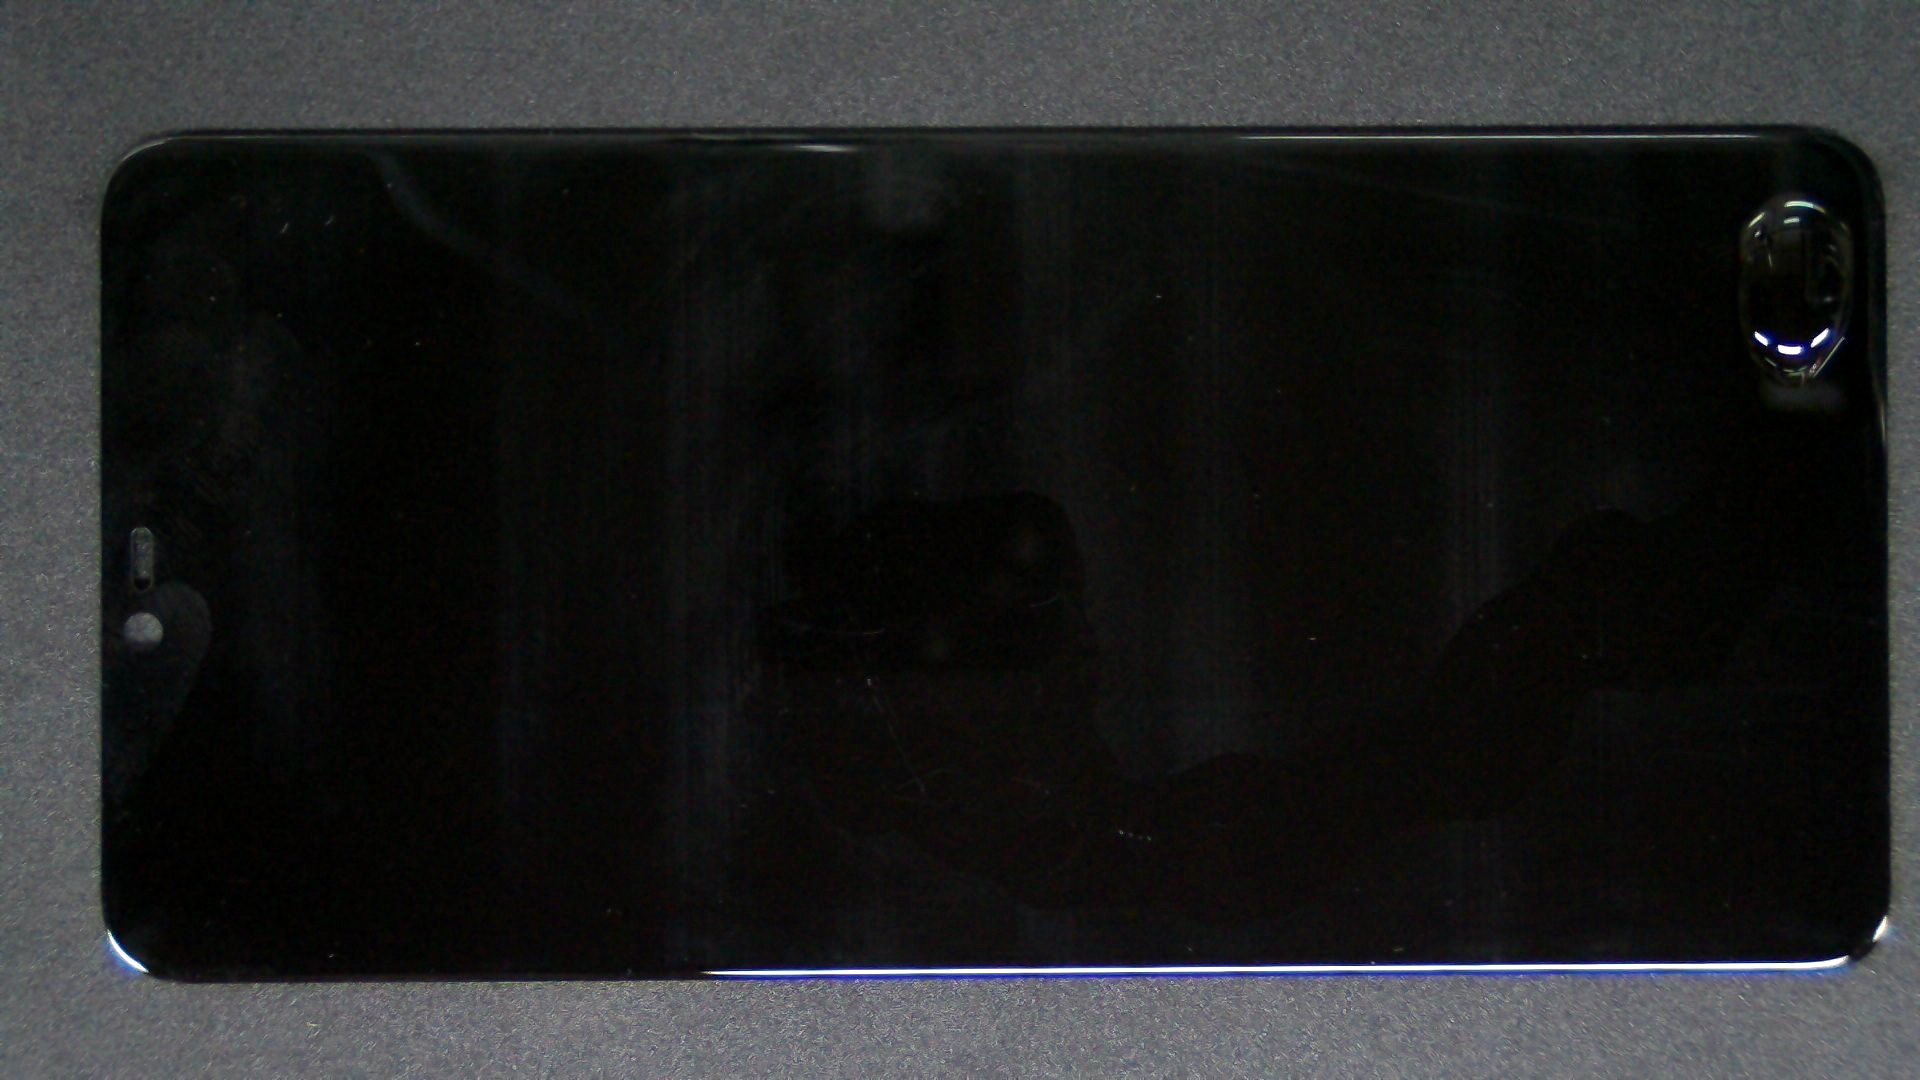oil: (898, 96, 1920, 290)
